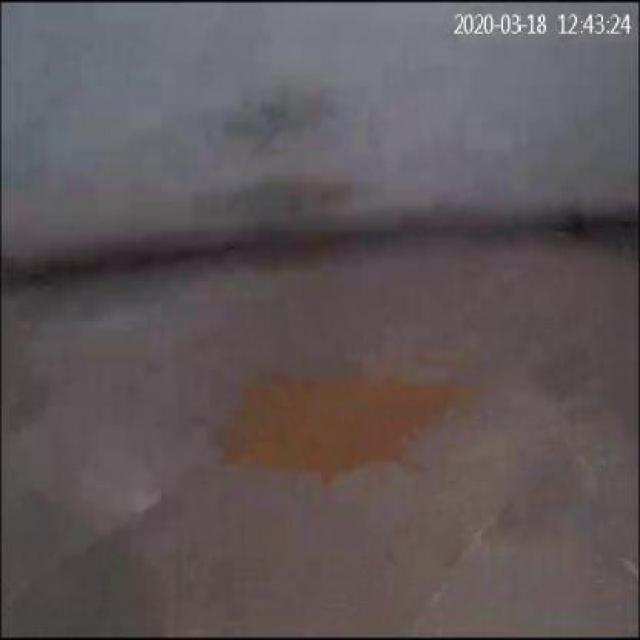spill: (221, 366, 467, 496)
